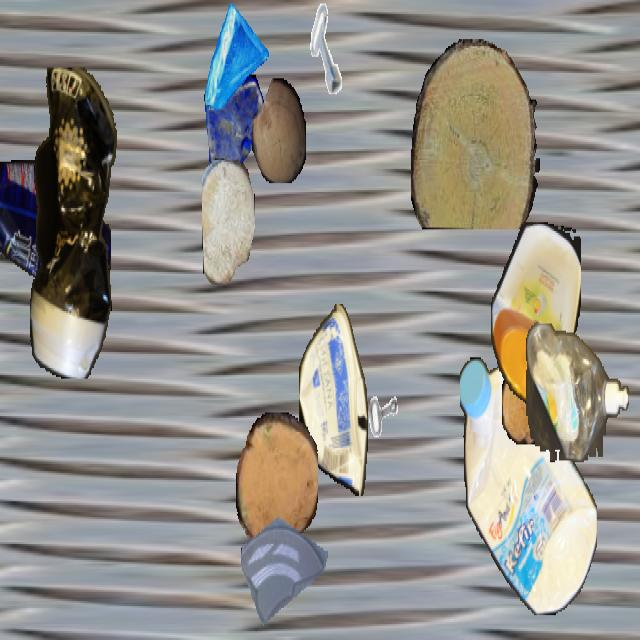glass: (241, 486, 327, 638), (202, 75, 268, 192), (203, 2, 269, 119), (0, 135, 27, 288)
metal: (349, 343, 407, 446), (302, 2, 354, 94)
plastic: (460, 356, 596, 615), (30, 67, 118, 377), (491, 222, 581, 404), (0, 160, 111, 306), (526, 324, 628, 462), (299, 304, 367, 496)
wood: (411, 39, 539, 228), (236, 413, 318, 551), (202, 158, 254, 283), (252, 78, 306, 182), (502, 362, 546, 444)
